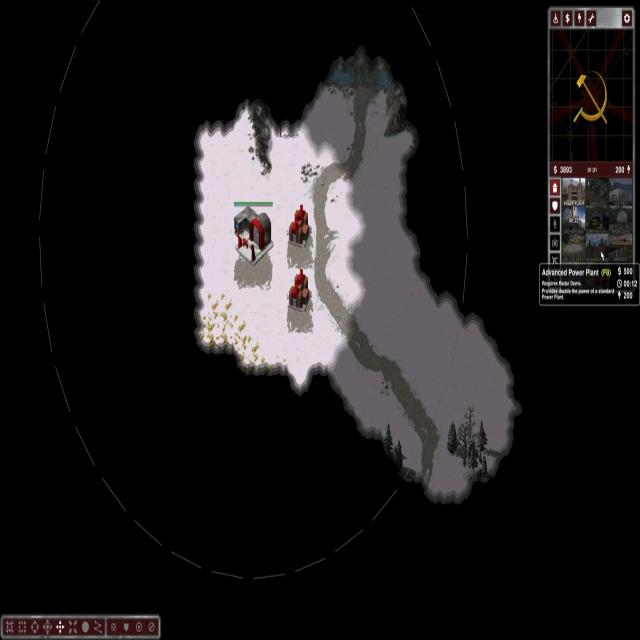dianchang: (288, 204, 310, 248), (288, 268, 310, 312)
jidi: (234, 207, 272, 264)
